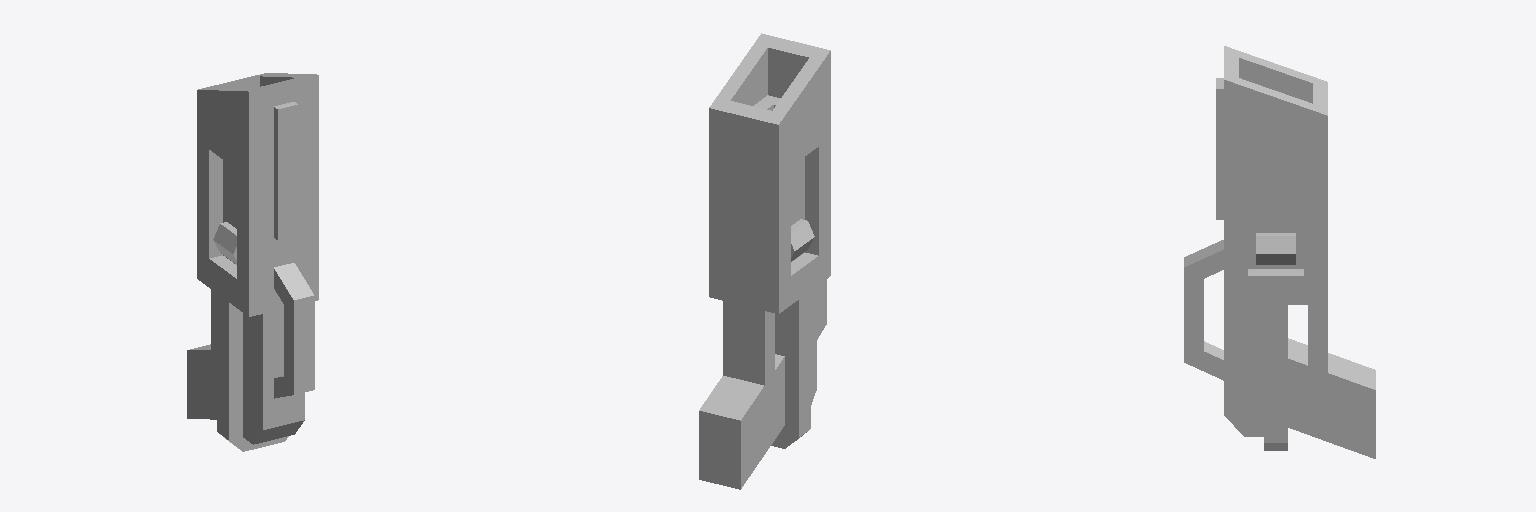
The model's file is AutoShotgun.obj.
3 views of the same model, side by side, from view 1: azimuth 30°, elevation 25°; view 2: azimuth 150°, elevation 25°; view 3: azimuth 270°, elevation 25° (orthographic).
Parts seen in each view (by area): view 1: AutoShotgun; view 2: AutoShotgun; view 3: AutoShotgun.
Part boxes in pixels (left/top/right/bottom): AutoShotgun: left=187, top=73, right=318, bottom=451; AutoShotgun: left=699, top=33, right=830, bottom=489; AutoShotgun: left=1184, top=46, right=1375, bottom=458.
Bounding box in the file's own units: 1 × 5.32 × 2.4.